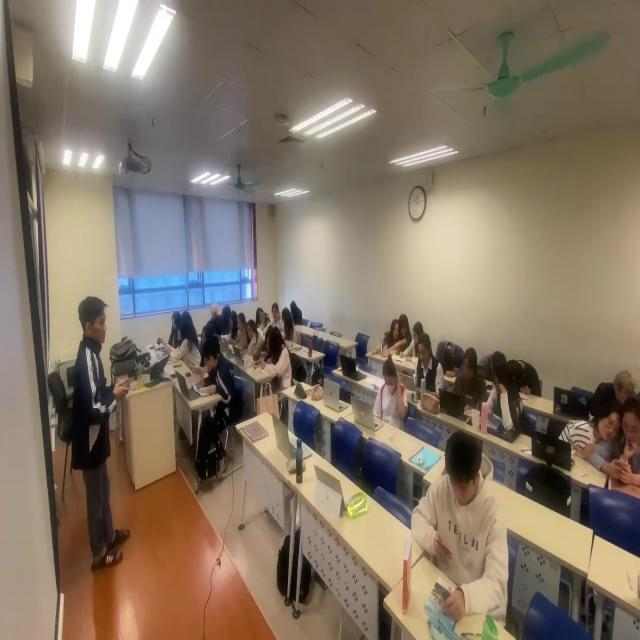raise_head: (200, 321, 216, 372)
read: (192, 337, 243, 432)
sleep: (507, 352, 545, 402), (432, 335, 470, 383), (476, 345, 509, 386)
using_computer: (436, 343, 492, 437), (402, 329, 448, 404), (243, 316, 265, 363), (235, 313, 250, 355), (227, 309, 242, 347)
using_phone: (408, 413, 519, 632)
